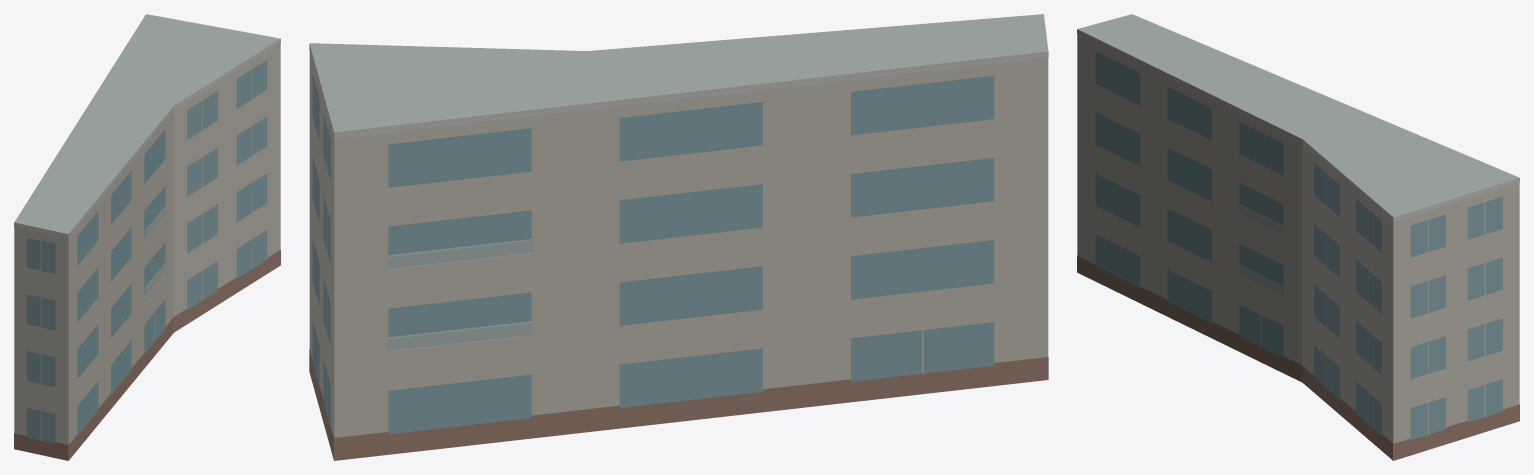
File: survey-upis-32688022.glb
3 views of the same model, side by side, from view 1: azimuth 30°, elevation 25°; view 2: azimuth 150°, elevation 25°; view 3: azimuth 270°, elevation 25° (orthographic). The views are drawn at different scales.
Parts seen in each view (by area): view 1: survey-upis-32688022.tmp; view 2: survey-upis-32688022.tmp; view 3: survey-upis-32688022.tmp.
Part boxes in pixels (x1=…): survey-upis-32688022.tmp: x1=14, y1=14, x2=280, y2=460; survey-upis-32688022.tmp: x1=309, y1=14, x2=1048, y2=460; survey-upis-32688022.tmp: x1=1077, y1=14, x2=1519, y2=460.
Bounding box in the file's own units: 21.51 × 12 × 19.78.
